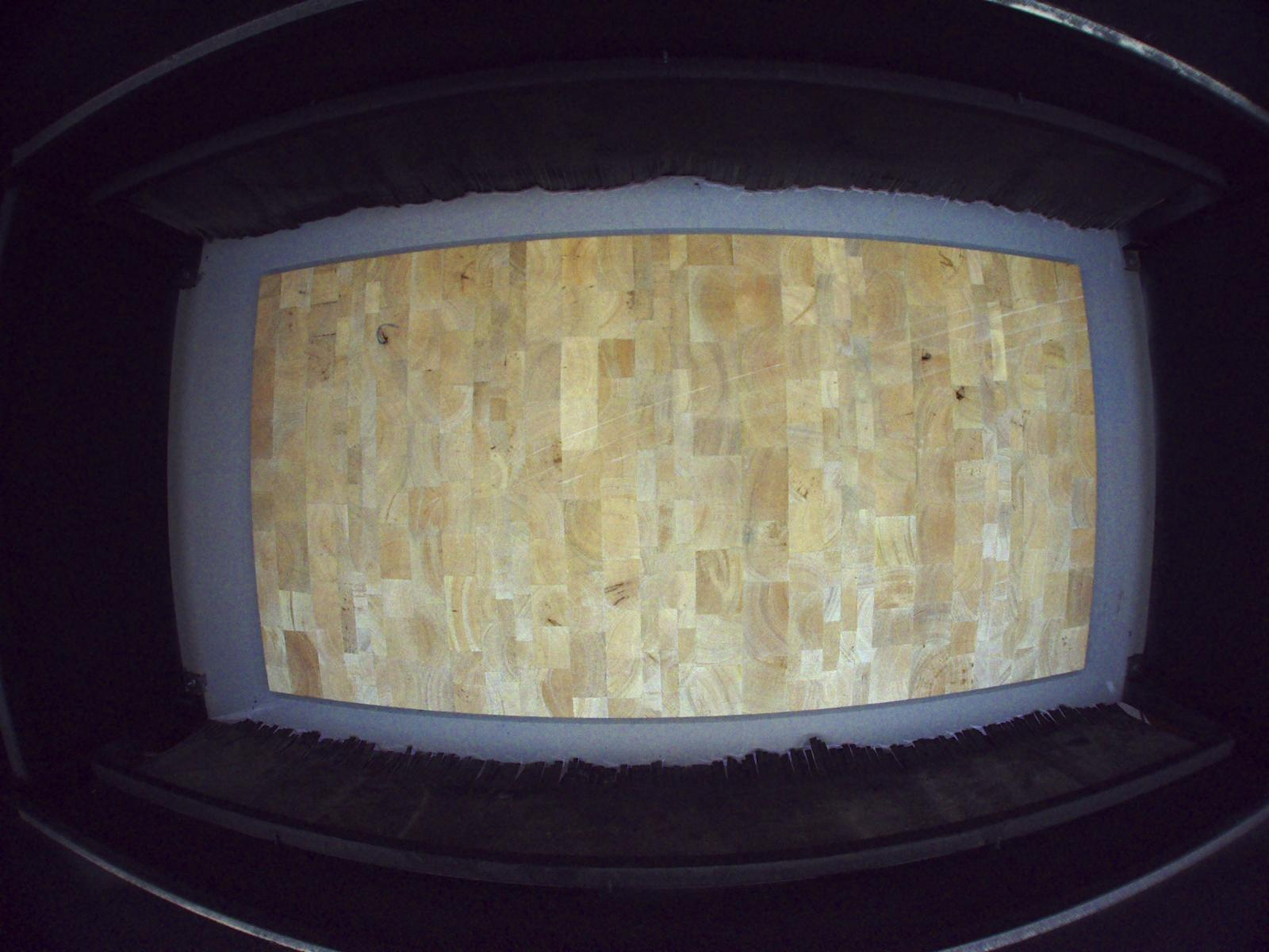nudillo: (375, 325, 390, 346)
sheck_ecuatoriano: (921, 346, 931, 375)
